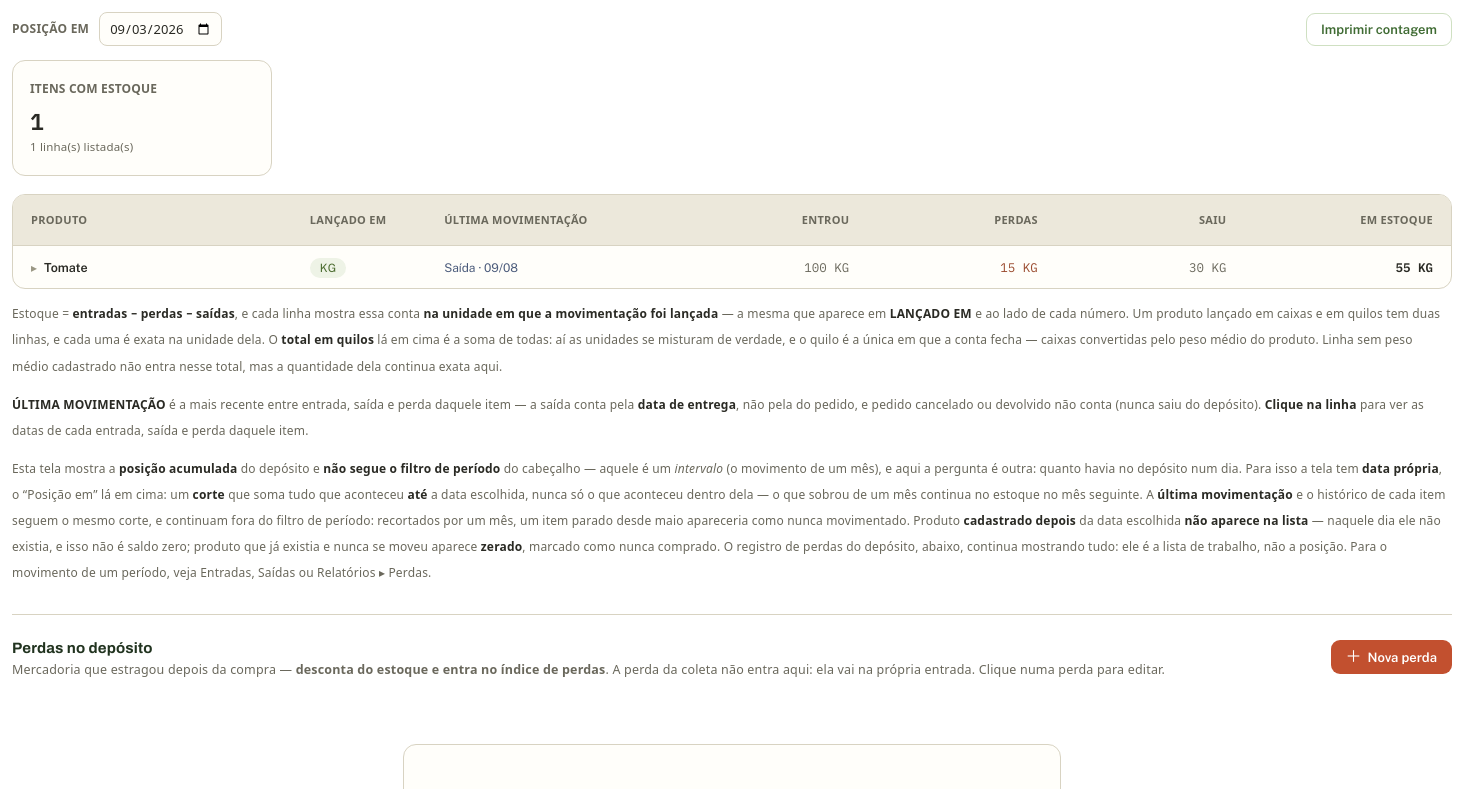
Test: EstoqueLista — historico por item (custo: uma busca para a tela inteira) › expandir uma linha busca o historico e lista as movimentacoes daquele item
Click the button "▸Tomate KG Saída · 09/08 100 KG 15 KG 30 KG 55 KG": [66, 267] box [13,246,1451,288]
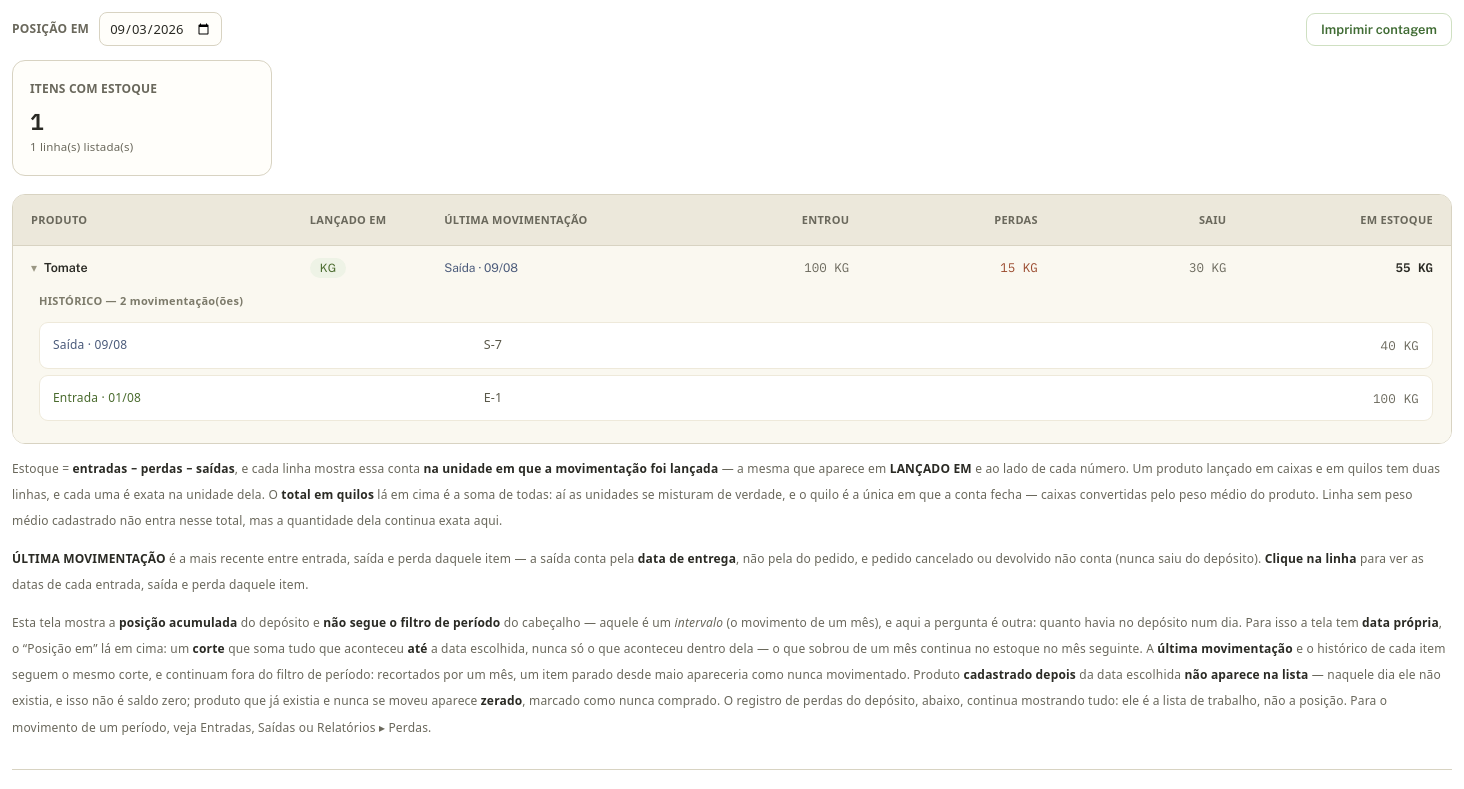
Expected: the text "S-7" is shown, [484,336,502,354]
Expected: the text "E-1" is shown, [484,389,502,406]
Expected: the text "40 KG" is shown, [1381,338,1419,354]
